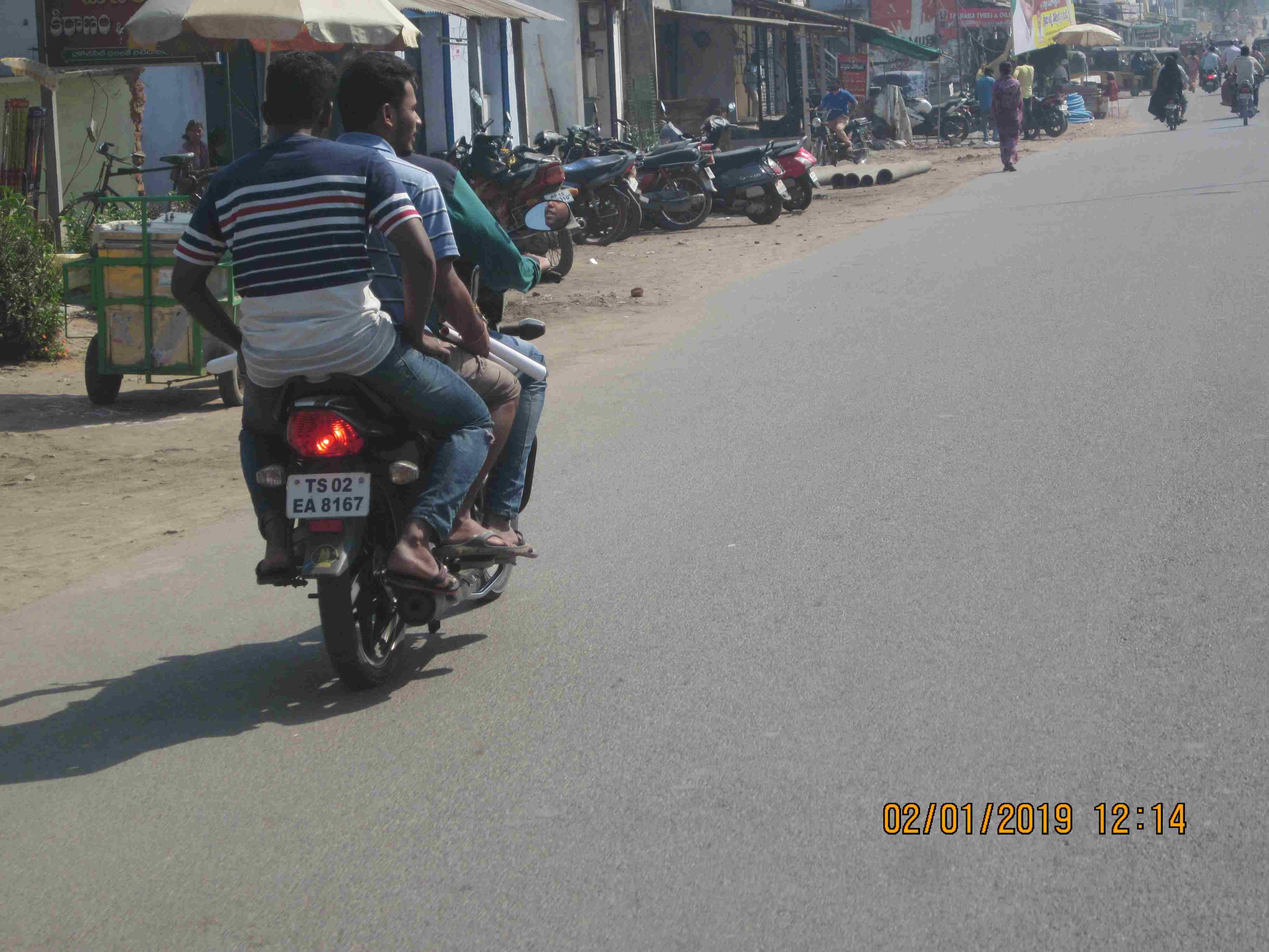plate: (284, 469, 379, 525)
